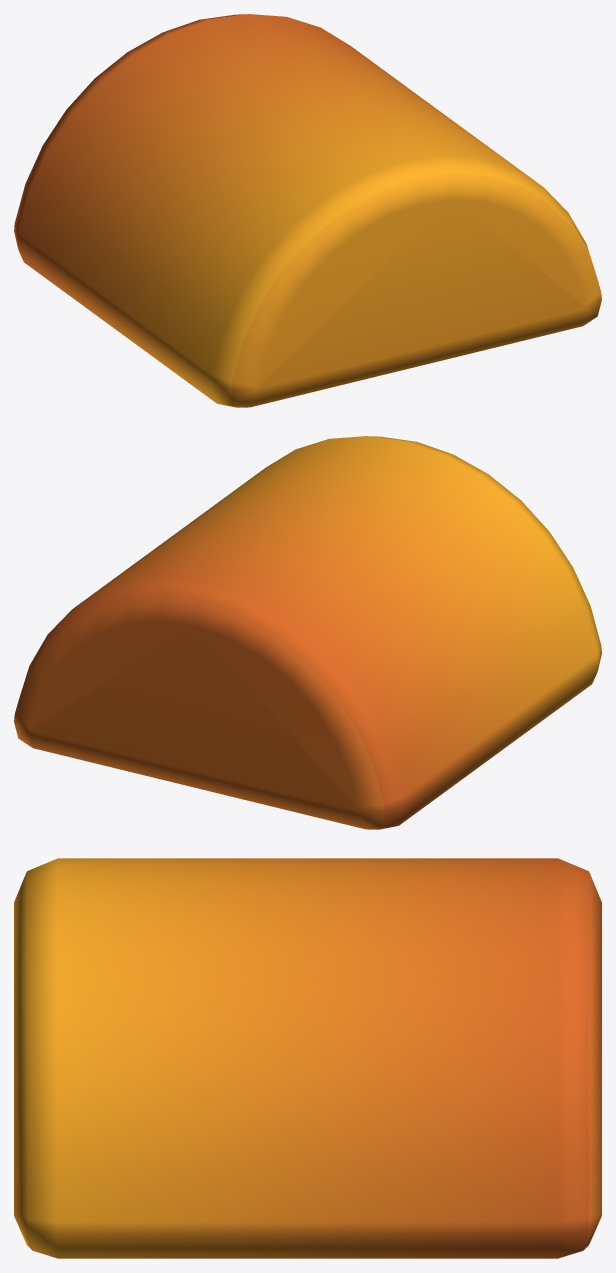
Rendered from BlockDomedRoofOrange.fbx.
3 views of the same model, one above another, from view 1: azimuth 30°, elevation 25°; view 2: azimuth 150°, elevation 25°; view 3: azimuth 270°, elevation 25° (orthographic). The views are drawn at different scales.
Parts seen in each view (by area): view 1: Cylinder.007; view 2: Cylinder.007; view 3: Cylinder.007.
Boxes of the visible parts, <box> form: Cylinder.007: <box>14,14,601,407</box>; Cylinder.007: <box>14,436,601,829</box>; Cylinder.007: <box>14,858,601,1258</box>.
Bounding box in the file's own units: 197 × 100 × 200.
